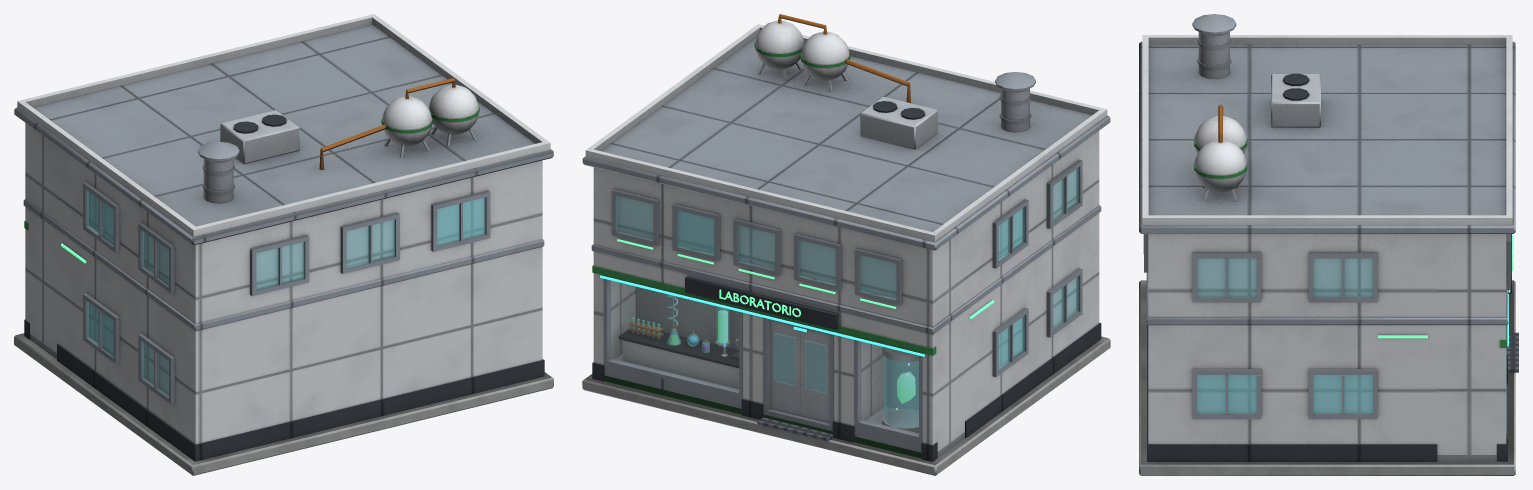
The model's file is laboratorio.fbx.
3 renders of one model, left to right at view 1: azimuth 30°, elevation 25°; view 2: azimuth 150°, elevation 25°; view 3: azimuth 270°, elevation 25°, orthographic. The views are drawn at different scales.
Visible parts, largest first — view 1: laboratorio, laboratorio_cristal; view 2: laboratorio, laboratorio_cristal, laboratorio_escaparate_cristal, laboratorio_puerta_izq, laboratorio_puerta_der, laboratorio_verde_neon, laboratorio_neon; view 3: laboratorio, laboratorio_cristal.
Part boxes in pixels (box(x1,y1,x2,y2)): laboratorio: box(14, 14, 553, 475); laboratorio_cristal: box(87, 190, 485, 396); laboratorio: box(582, 14, 1110, 475); laboratorio_cristal: box(616, 168, 1078, 427); laboratorio_escaparate_cristal: box(609, 280, 918, 434); laboratorio_puerta_izq: box(770, 321, 800, 416); laboratorio_puerta_der: box(801, 329, 829, 422); laboratorio_verde_neon: box(617, 239, 994, 403); laboratorio_neon: box(600, 275, 924, 356); laboratorio: box(1139, 14, 1518, 475); laboratorio_cristal: box(1197, 259, 1372, 413).
Bounding box in the file's own units: 14 × 10.96 × 12.1.
Materials: 4 (4 with a texture image).
